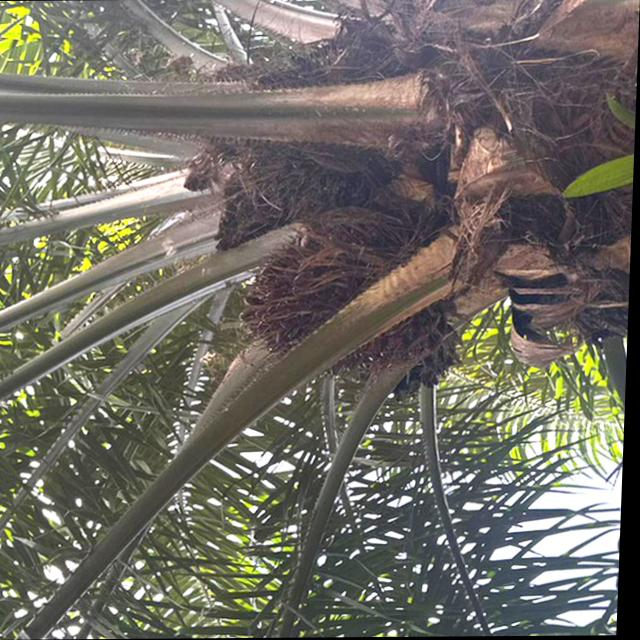ripe: (230, 210, 429, 374)
